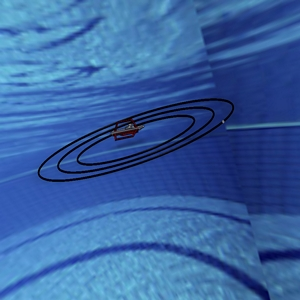circle: (25, 93, 246, 192)
submarine: (106, 115, 146, 145)
